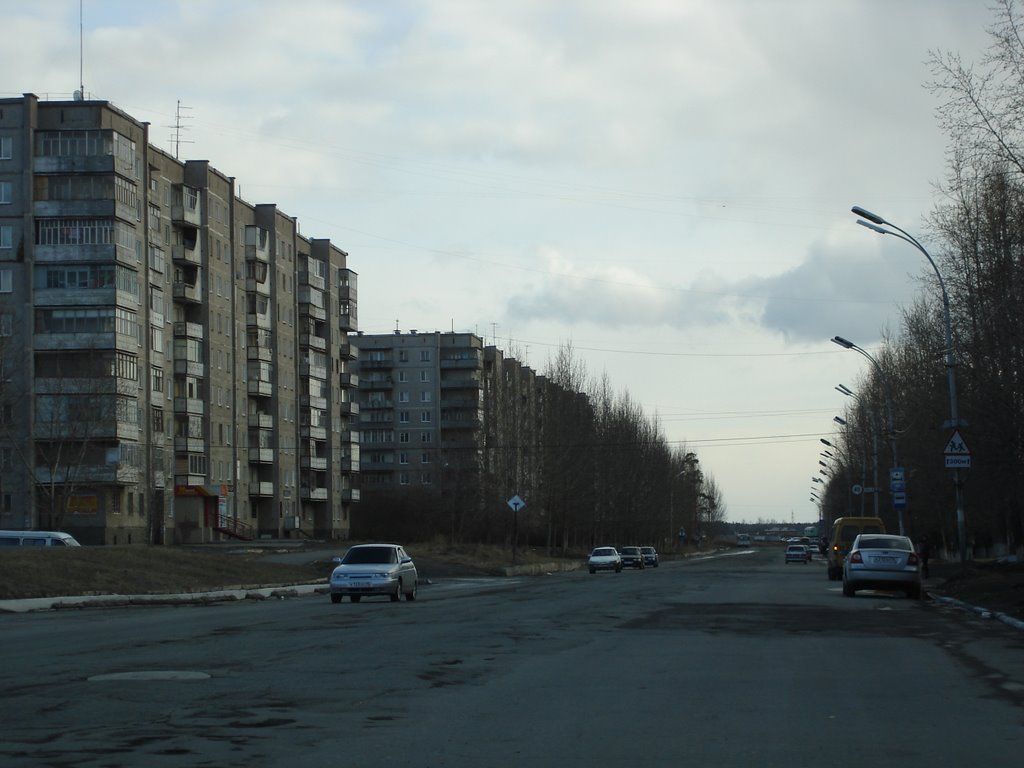sign: (941, 429, 972, 456), (892, 489, 908, 512), (944, 456, 971, 468), (888, 465, 906, 481), (888, 479, 906, 492), (850, 483, 863, 497)
